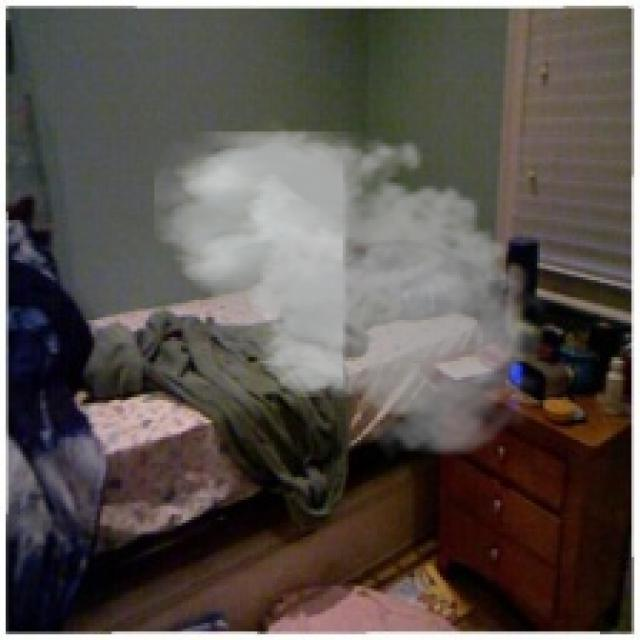smoke: (154, 117, 557, 463)
